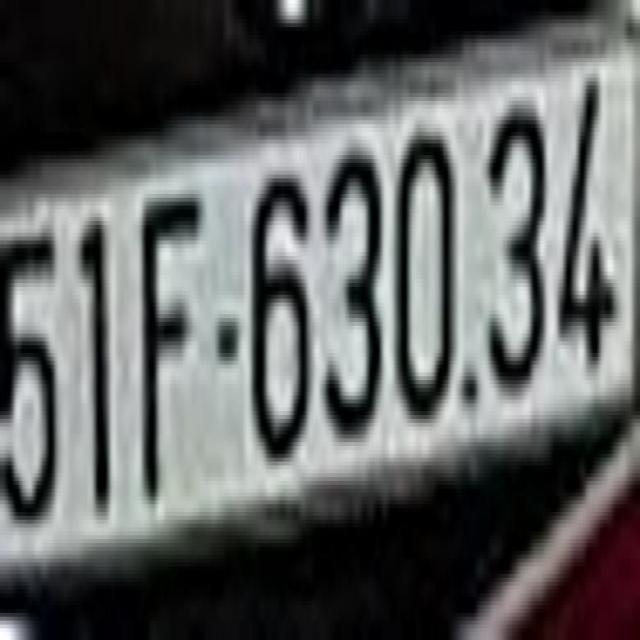0: (392, 85, 452, 450)
1: (72, 159, 126, 555)
3: (318, 105, 384, 469), (483, 70, 546, 415)
4: (553, 47, 619, 400)
5: (1, 167, 54, 547)
6: (247, 132, 313, 492)
F: (135, 151, 204, 512)
